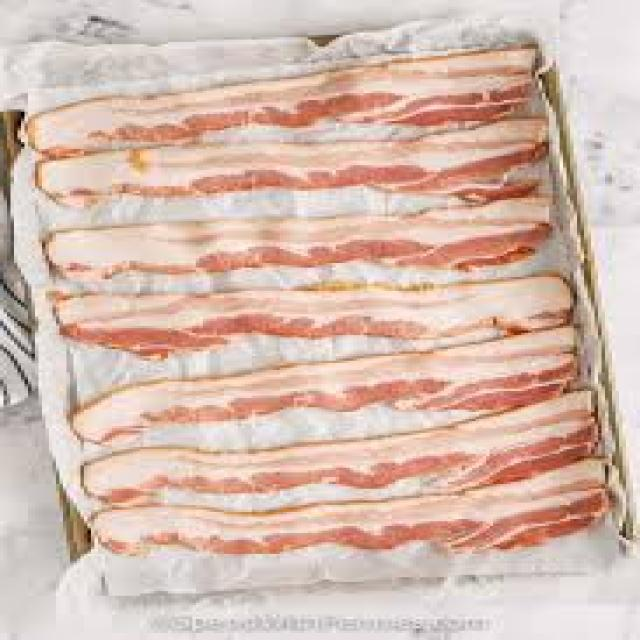Bacon: (83, 394, 595, 511), (73, 329, 575, 446), (26, 51, 533, 159), (98, 459, 601, 554), (58, 276, 569, 357), (47, 216, 550, 293), (44, 139, 545, 199)
